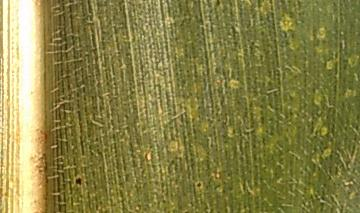tarspot: (71, 173, 86, 190), (194, 178, 203, 191)
